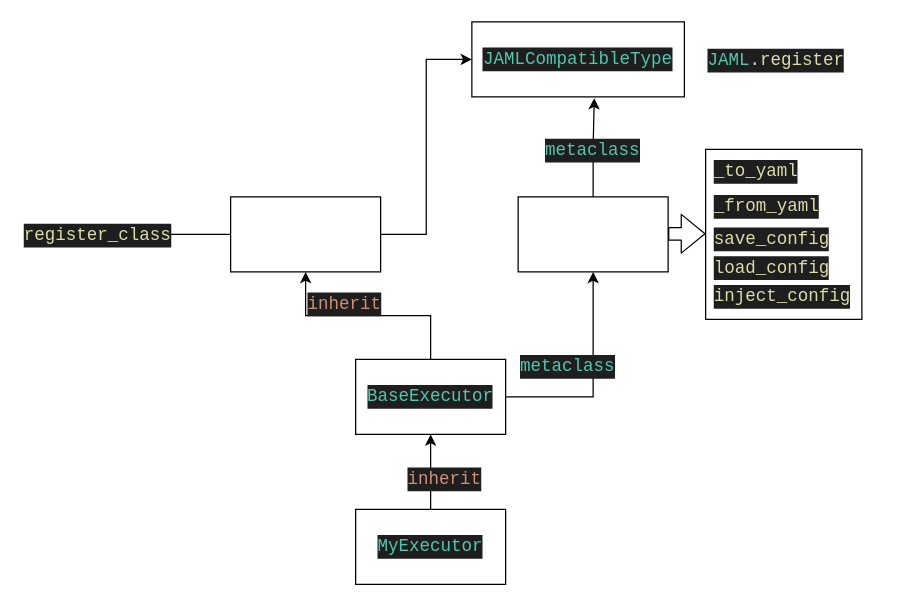
The diagram is 908 pixels wide and 606 high, and some of its shapes have lost their labels. Each missing label, with the box of its shape:
ExecutorType: (229, 196, 381, 272)
JAMLCompatible: (517, 196, 668, 272)
